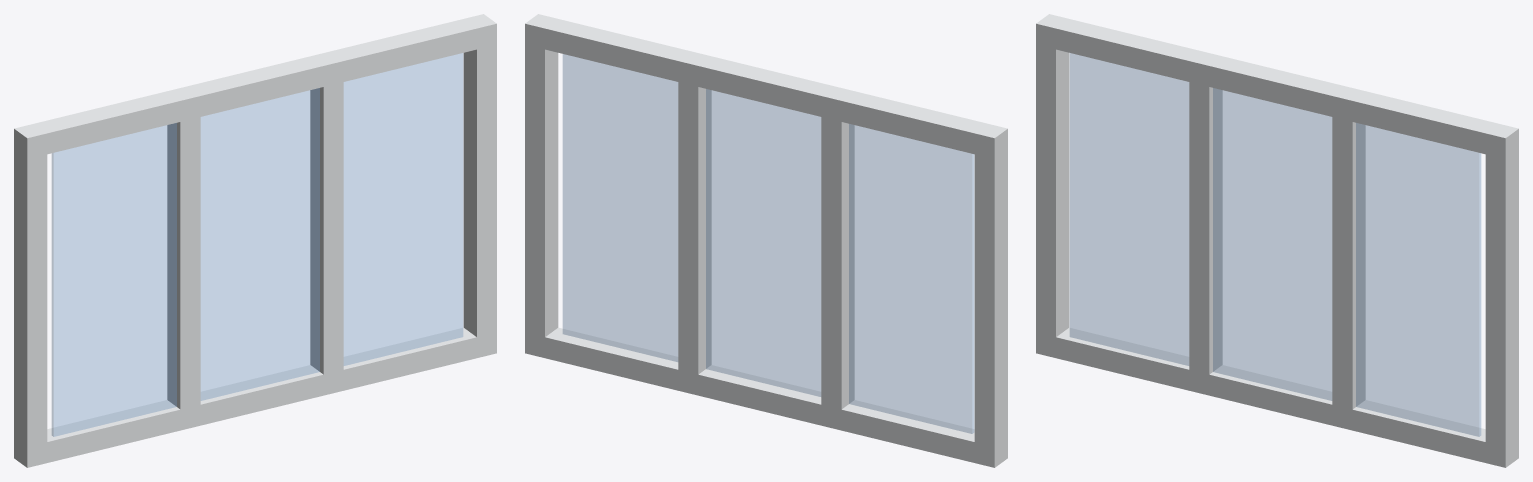
File: window_three_pane.glb
3 renders of one model, left to right at view 1: azimuth 30°, elevation 25°; view 2: azimuth 150°, elevation 25°; view 3: azimuth 330°, elevation 25°, orthographic.
Visible parts, largest first — view 1: glass_pane_1, glass_pane_3, glass_pane_2, top_frame, bottom_frame, left_frame, vertical_mullion_1, vertical_mullion_2, right_frame; view 2: glass_pane_1, glass_pane_3, glass_pane_2, top_frame, bottom_frame, left_frame, vertical_mullion_1, right_frame, vertical_mullion_2; view 3: glass_pane_3, glass_pane_1, glass_pane_2, top_frame, bottom_frame, right_frame, vertical_mullion_2, left_frame, vertical_mullion_1.
Boxes of the visible parts, bbox=[...] form: glass_pane_1: bbox=[52, 123, 176, 436]; glass_pane_3: bbox=[344, 53, 462, 365]; glass_pane_2: bbox=[201, 88, 319, 400]; top_frame: bbox=[14, 19, 496, 159]; bottom_frame: bbox=[14, 327, 496, 467]; left_frame: bbox=[14, 124, 47, 467]; vertical_mullion_1: bbox=[167, 86, 200, 430]; vertical_mullion_2: bbox=[310, 51, 343, 391]; right_frame: bbox=[463, 14, 496, 354]; glass_pane_1: bbox=[849, 124, 973, 433]; glass_pane_3: bbox=[563, 54, 677, 361]; glass_pane_2: bbox=[706, 89, 820, 396]; top_frame: bbox=[525, 19, 1007, 159]; bottom_frame: bbox=[525, 327, 1007, 467]; left_frame: bbox=[974, 124, 1007, 467]; vertical_mullion_1: bbox=[821, 86, 854, 428]; right_frame: bbox=[525, 14, 558, 355]; vertical_mullion_2: bbox=[678, 51, 711, 390]; glass_pane_3: bbox=[1356, 123, 1480, 436]; glass_pane_1: bbox=[1070, 53, 1188, 365]; glass_pane_2: bbox=[1213, 88, 1331, 400]; top_frame: bbox=[1036, 16, 1518, 159]; bottom_frame: bbox=[1036, 327, 1518, 467]; right_frame: bbox=[1485, 124, 1518, 467]; vertical_mullion_2: bbox=[1332, 86, 1365, 428]; left_frame: bbox=[1036, 14, 1069, 355]; vertical_mullion_1: bbox=[1189, 51, 1222, 390].
Size of the model in its own units: 1.64 by 1.1 by 0.08.
